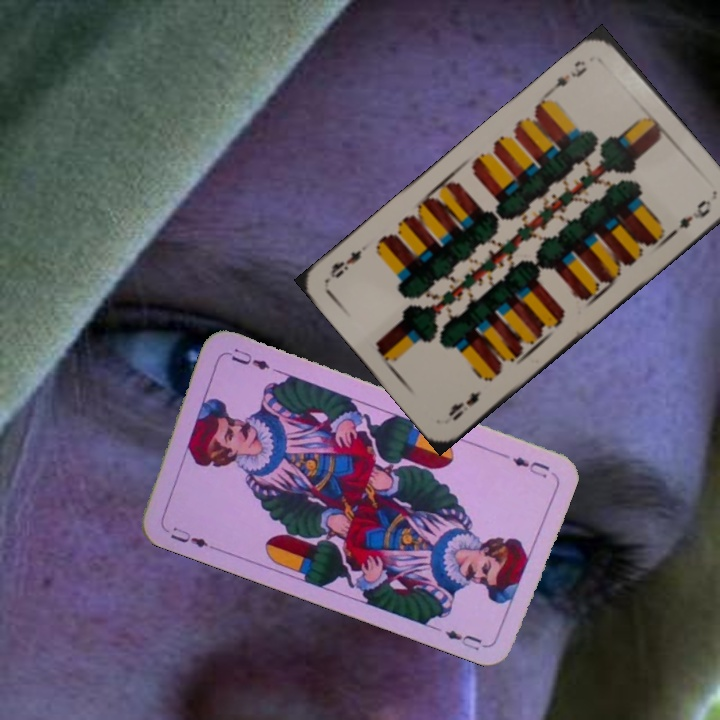E9: (546, 56, 590, 95), (444, 387, 484, 424)
EU: (166, 523, 217, 553), (508, 452, 552, 481)
